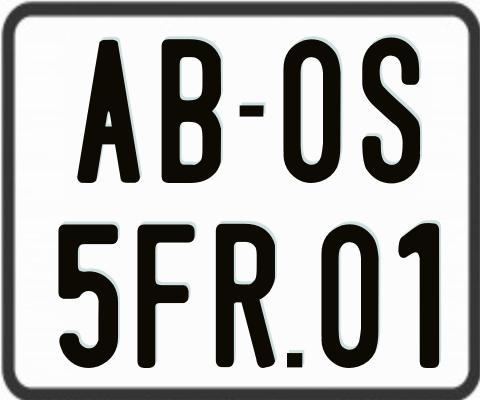0: (320, 222, 380, 371), (282, 38, 342, 183)
1: (397, 223, 440, 369)
5: (56, 221, 122, 368)
A: (76, 39, 141, 183)
B: (159, 38, 222, 188)
F: (134, 222, 194, 369)
R: (216, 222, 275, 370)
S: (360, 35, 423, 185)
